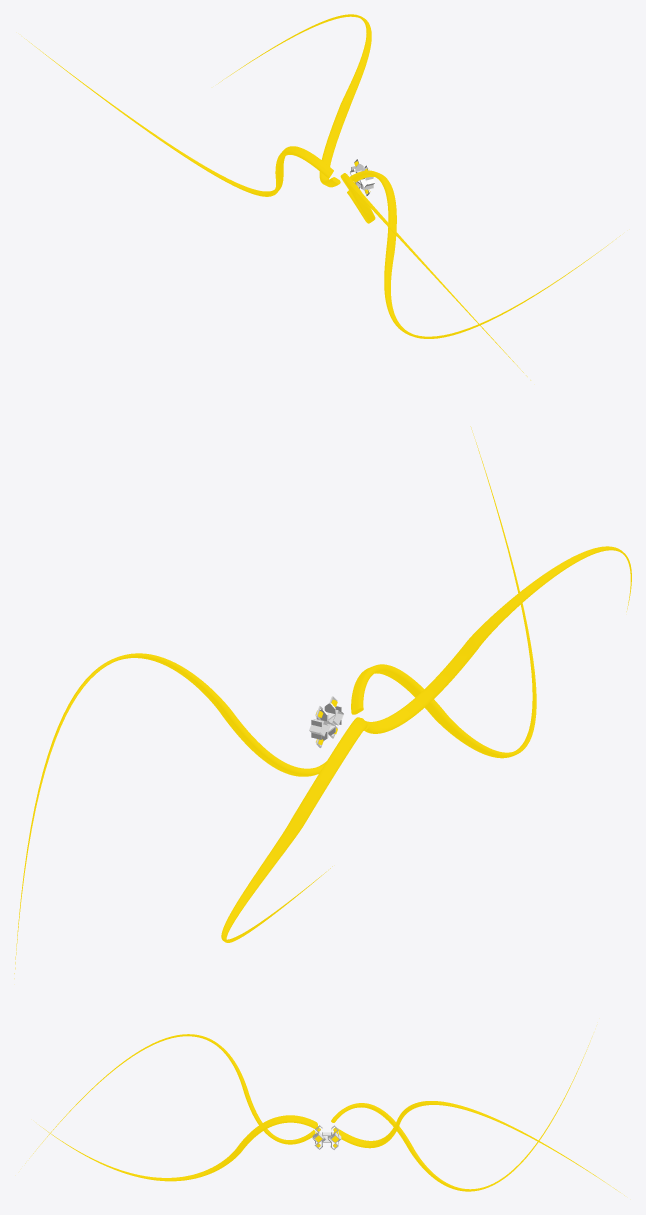
The model's file is Citizen2.glb.
3 views of the same model, one above another, from view 1: azimuth 30°, elevation 25°; view 2: azimuth 150°, elevation 25°; view 3: azimuth 270°, elevation 25° (orthographic). The views are drawn at different scales.
Parts seen in each view (by area): view 1: BézierCurve.005, BézierCurve.004, BézierCurve.007, BézierCurve.006; view 2: BézierCurve.006, BézierCurve.007, BézierCurve.005, BézierCurve.004, Plane; view 3: BézierCurve.005, BézierCurve.004, BézierCurve.007, BézierCurve.006, Plane.
Part boxes in pixels (x1,y1,x2,y2): BézierCurve.005: (350, 170, 620, 338); BézierCurve.004: (218, 14, 371, 187); BézierCurve.007: (24, 38, 333, 196); BézierCurve.006: (340, 173, 530, 380); BézierCurve.006: (361, 546, 631, 733); BézierCurve.007: (221, 717, 367, 942); BézierCurve.005: (351, 426, 536, 758); BézierCurve.004: (14, 653, 326, 978); Plane: (309, 696, 343, 747); BézierCurve.005: (39, 1115, 318, 1181); BézierCurve.004: (333, 1101, 624, 1195); BézierCurve.007: (331, 1036, 592, 1191); BézierCurve.006: (25, 1034, 316, 1163); Plane: (312, 1125, 341, 1149).
Size of the model in its own units: 36.09 by 20.86 by 91.5.
